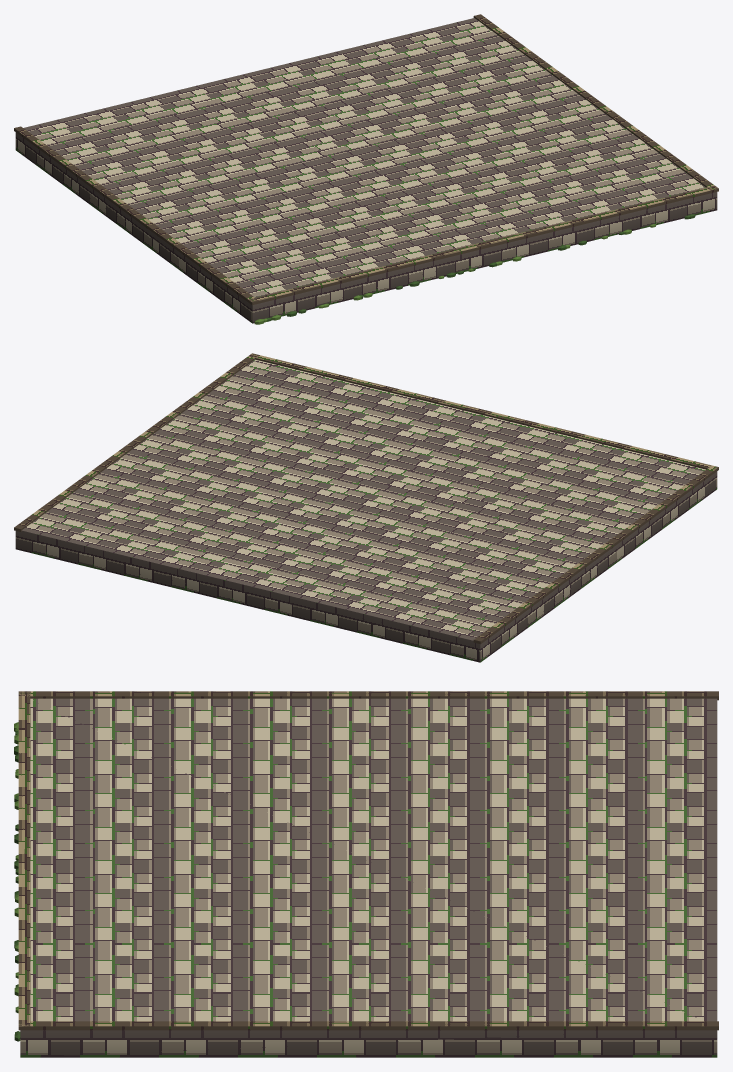
The model's file is scene_wall_s.glb.
The picture shows the model from 3 angles, top to bottom: view 1: azimuth 30°, elevation 25°; view 2: azimuth 150°, elevation 25°; view 3: azimuth 270°, elevation 25°; orthographic projection. The views are drawn at different scales.
Parts seen in each view (by area): view 1: scene_wall_s; view 2: scene_wall_s; view 3: scene_wall_s.
Boxes of the visible parts, x1,y1,x2,y2 form: scene_wall_s: (14, 14, 718, 324); scene_wall_s: (14, 353, 718, 662); scene_wall_s: (14, 691, 718, 1057).
Size of the model in its own units: 24.1 by 1.17 by 21.44.
Materials: 2 (1 with a texture image).
